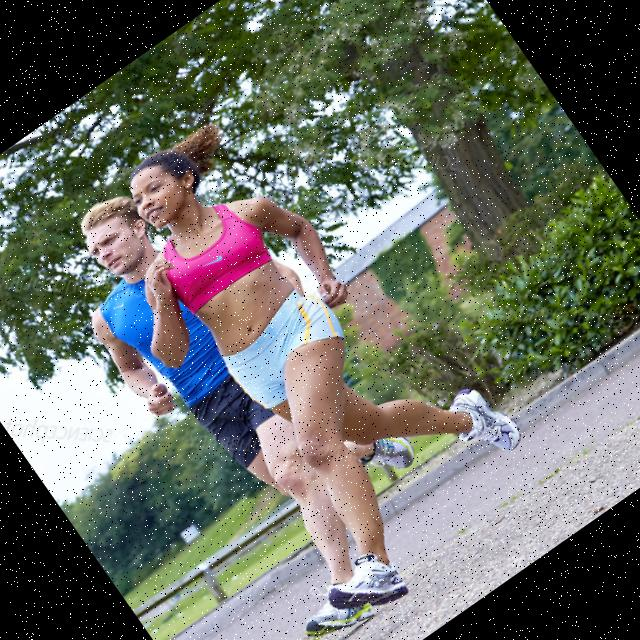Person: (55, 68, 565, 640), (28, 133, 482, 640)
